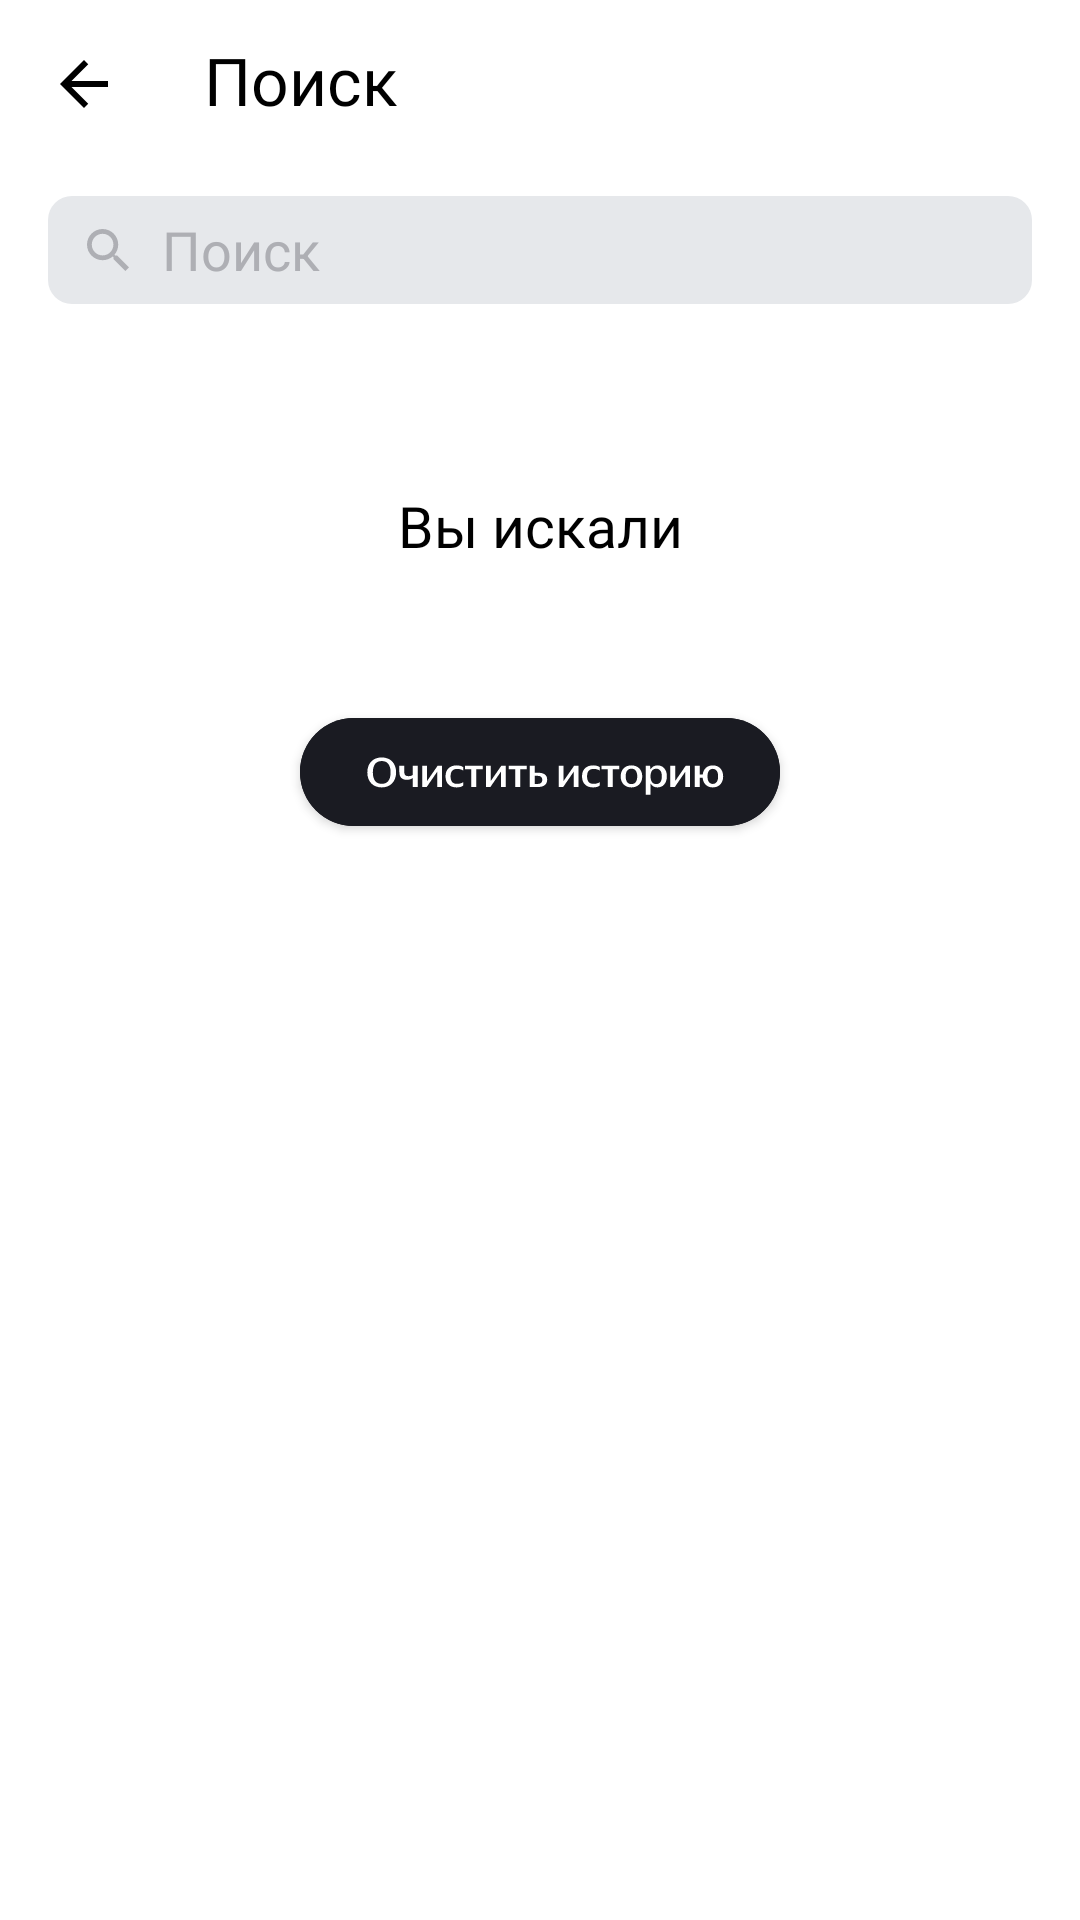

Icons on this 1080 x 1920 Android screen, each with the point to tap as (x,y):
left: (84,84)
